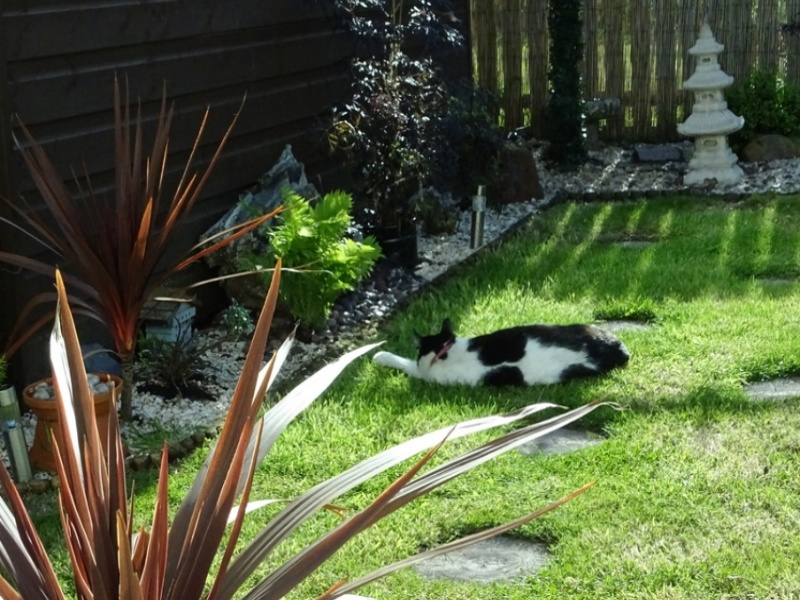cat: (375, 309, 637, 386)
